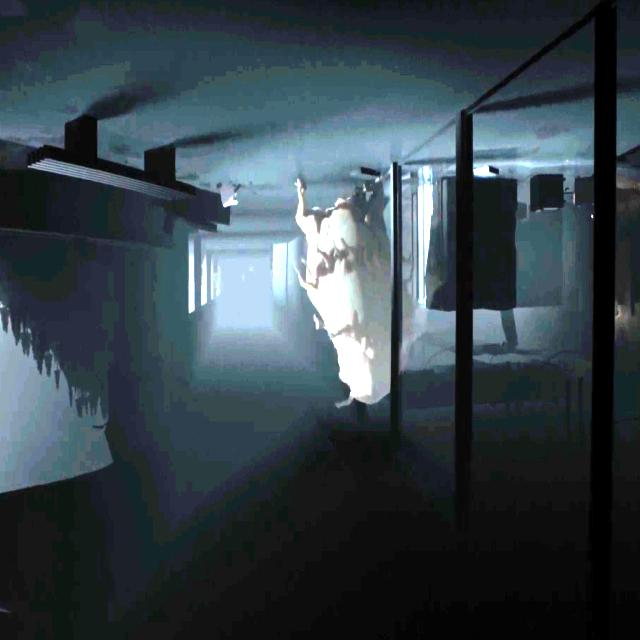blob: (295, 178, 424, 402)
